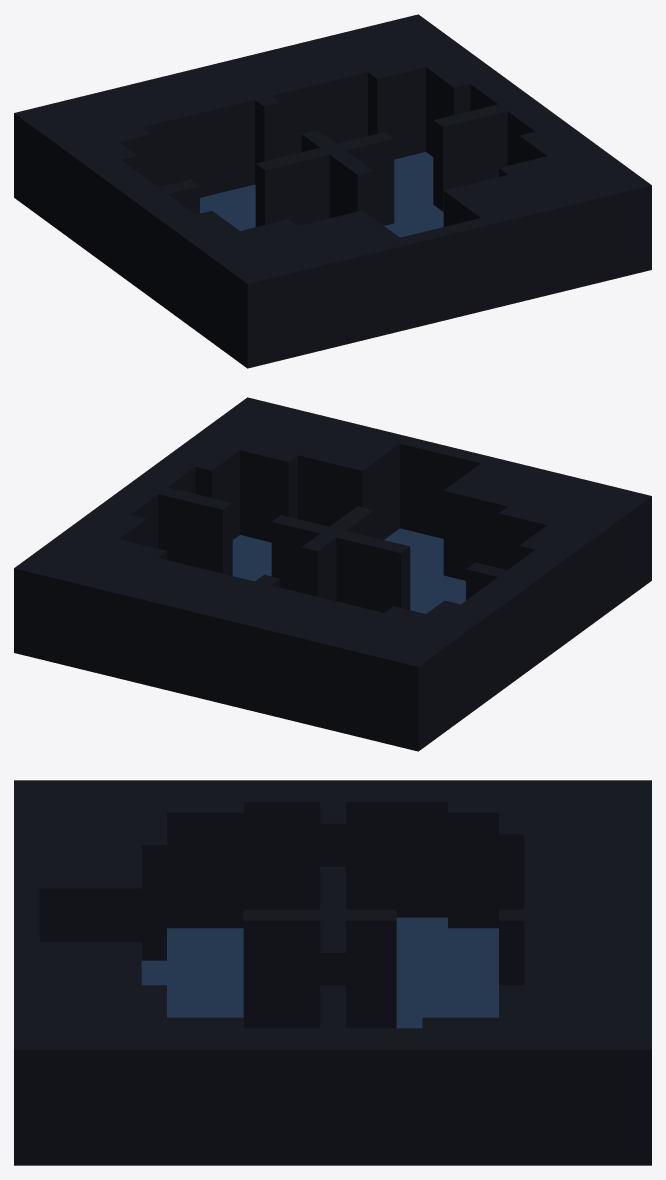
Rendered from lobby.fbx.
The picture shows the model from 3 angles, top to bottom: view 1: azimuth 30°, elevation 25°; view 2: azimuth 150°, elevation 25°; view 3: azimuth 270°, elevation 25°; orthographic projection. The views are drawn at different scales.
Parts seen in each view (by area): view 1: kabe, yuka; view 2: kabe, yuka; view 3: kabe, yuka.
Part boxes in pixels (x1,y1,x2,y2): kabe: (14, 14, 651, 368); yuka: (200, 152, 443, 237); kabe: (14, 397, 651, 751); yuka: (232, 528, 465, 613); kabe: (14, 780, 651, 1165); yuka: (141, 917, 498, 1028).
Size of the model in its own units: 197 by 39.37 by 197.
